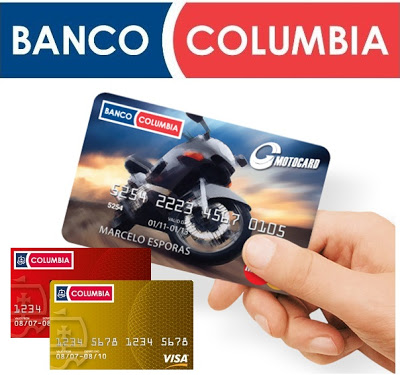tarjeta: (62, 91, 330, 295), (49, 279, 194, 369), (10, 247, 151, 339)
